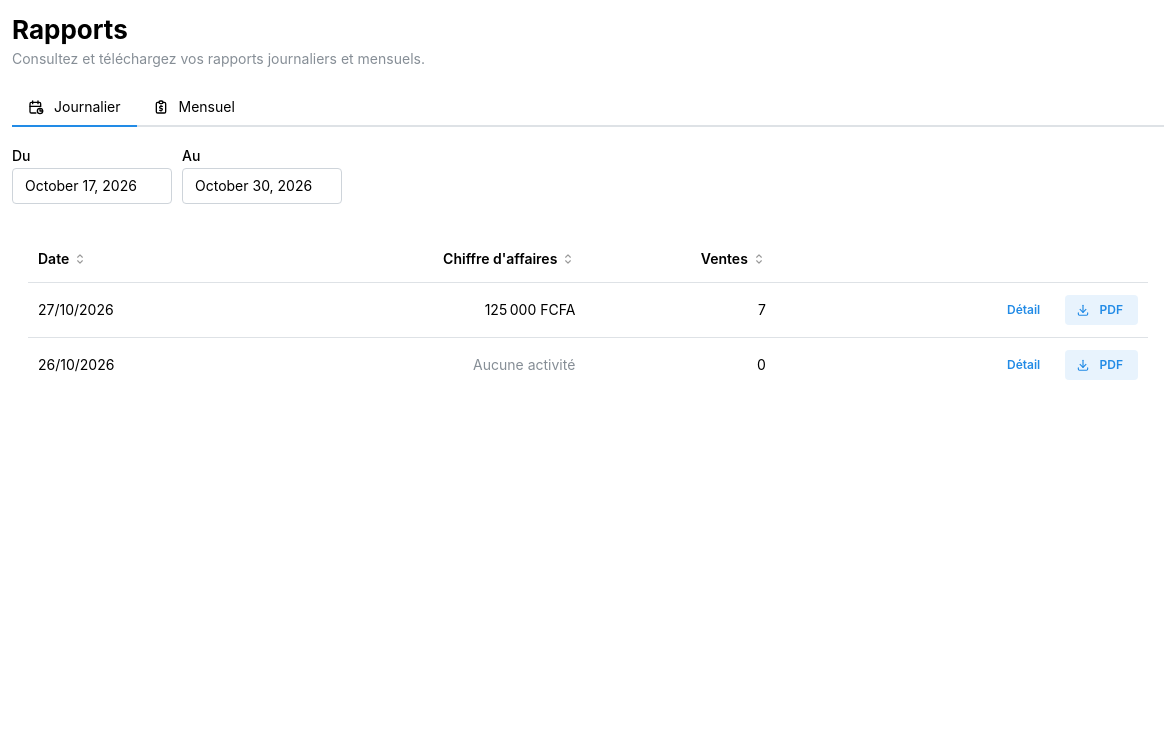
Test: ReportsPage › anomalie QA #4 : le montant des produits est explicitement libellé comme une marge, sous le titre « Produits les plus rentables »
Click the tab "Mensuel".
click(194, 108)  # box left=136, top=89, right=251, bottom=127
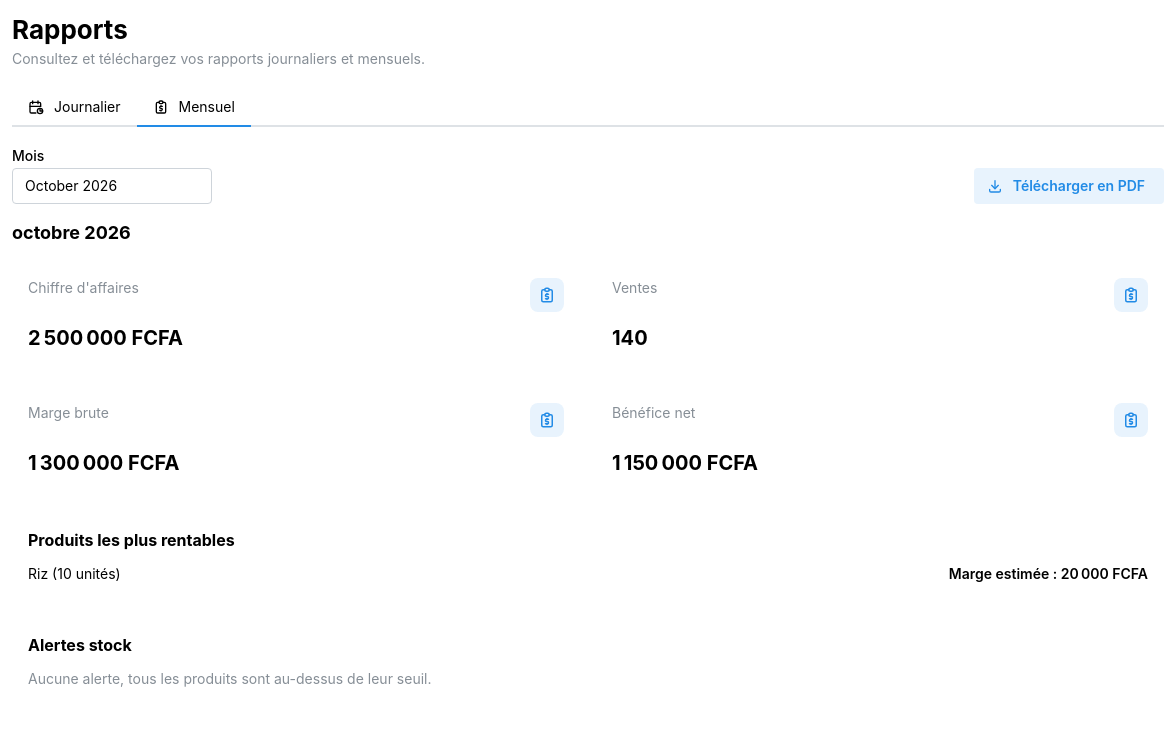
Check: the heading "Produits les plus rentables" is shown, box left=28, top=530, right=235, bottom=550
Check: the text "Marge estimée : 20 000 FCFA" is shown, box left=949, top=564, right=1148, bottom=585
